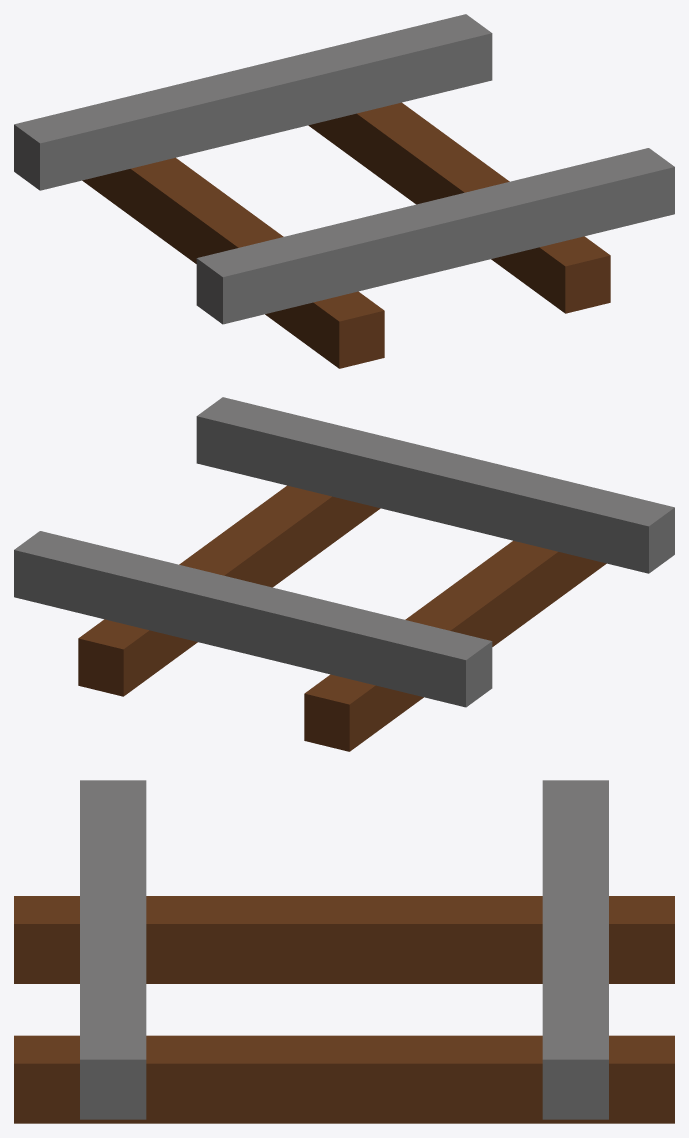
File: rail.dae
3 renders of one model, top to bottom at view 1: azimuth 30°, elevation 25°; view 2: azimuth 150°, elevation 25°; view 3: azimuth 270°, elevation 25°, orthographic. The views are drawn at different scales.
Visible parts, largest first — view 1: PlaneCOL; view 2: PlaneCOL; view 3: PlaneCOL.
Part boxes in pixels (x1,y1,x2,y2): PlaneCOL: (14, 14, 674, 368); PlaneCOL: (14, 397, 674, 751); PlaneCOL: (14, 780, 674, 1123).
Size of the model in its own units: 1 by 1 by 0.2.
